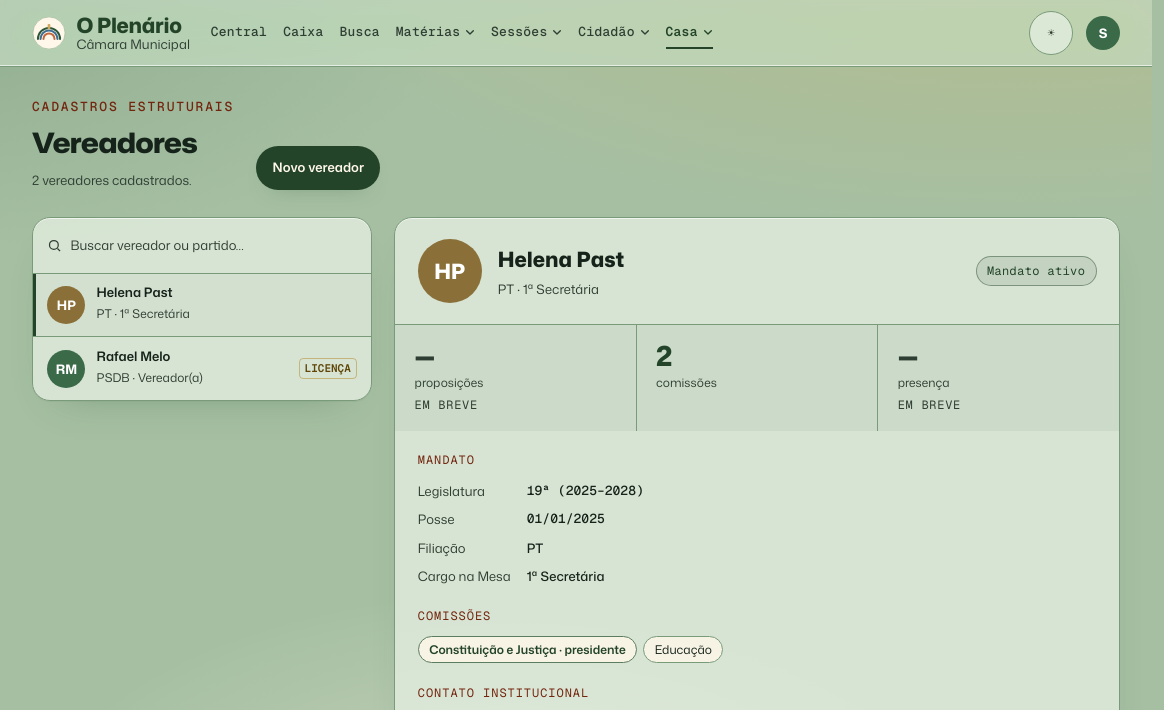
Test case: PaginaVereadores › Novo vereador: submit fica desabilitado quando o nome está em branco após tocar
The image size is (1164, 710).
Check: the heading "Helena Past" is shown, box [498,244,624,274]
Click the button "Novo vereador": [318, 168] box [256,146,380,190]
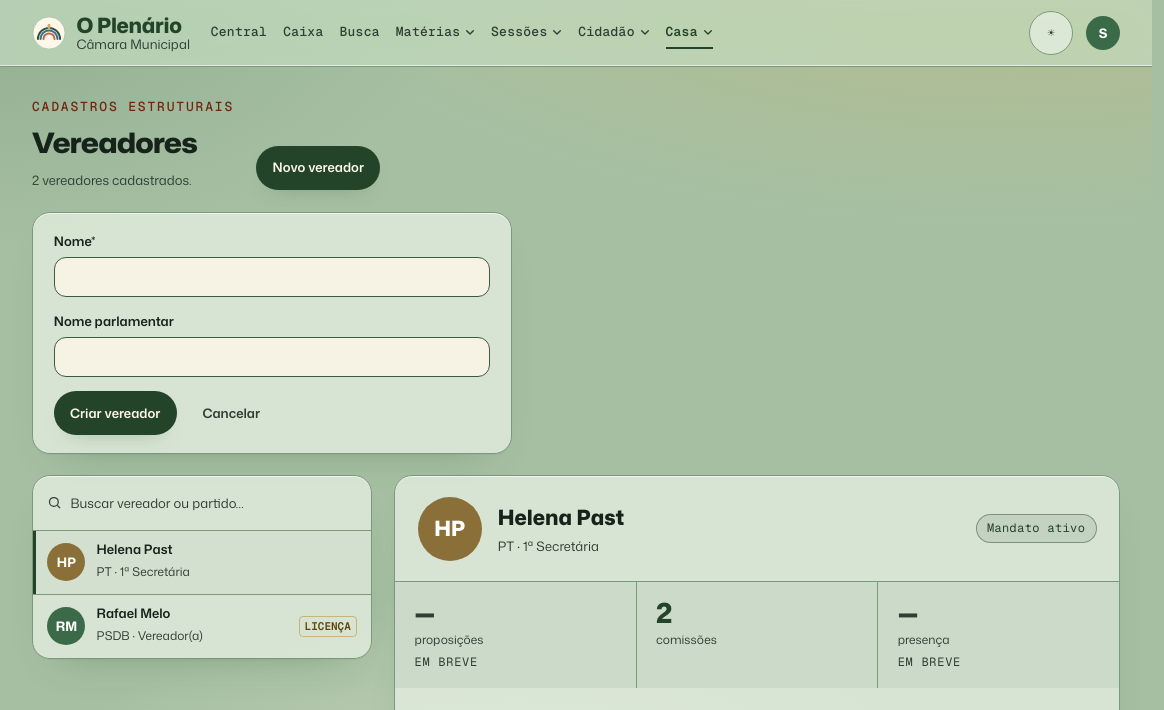
Submit the form named "novo vereador", box [32,212,512,454]
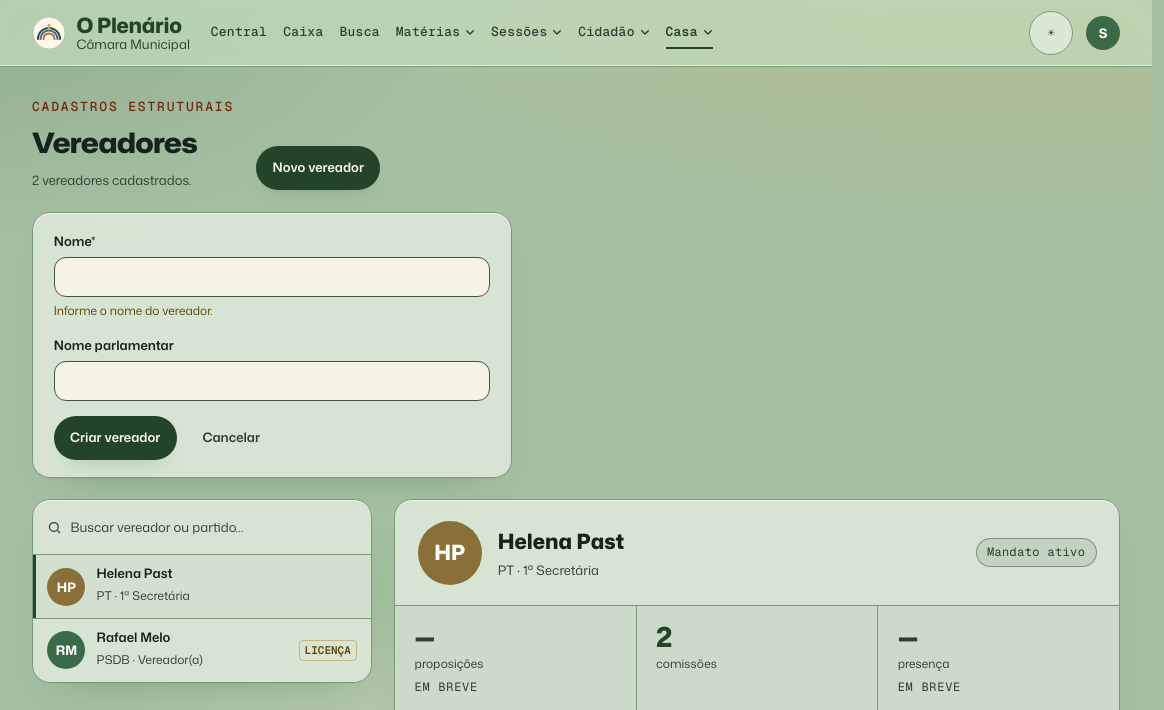
Check: the message "Informe o nome do vereador." is shown, box [54,302,213,319]
Check: the button "Criar vereador" is disabled, box [54,416,177,460]
